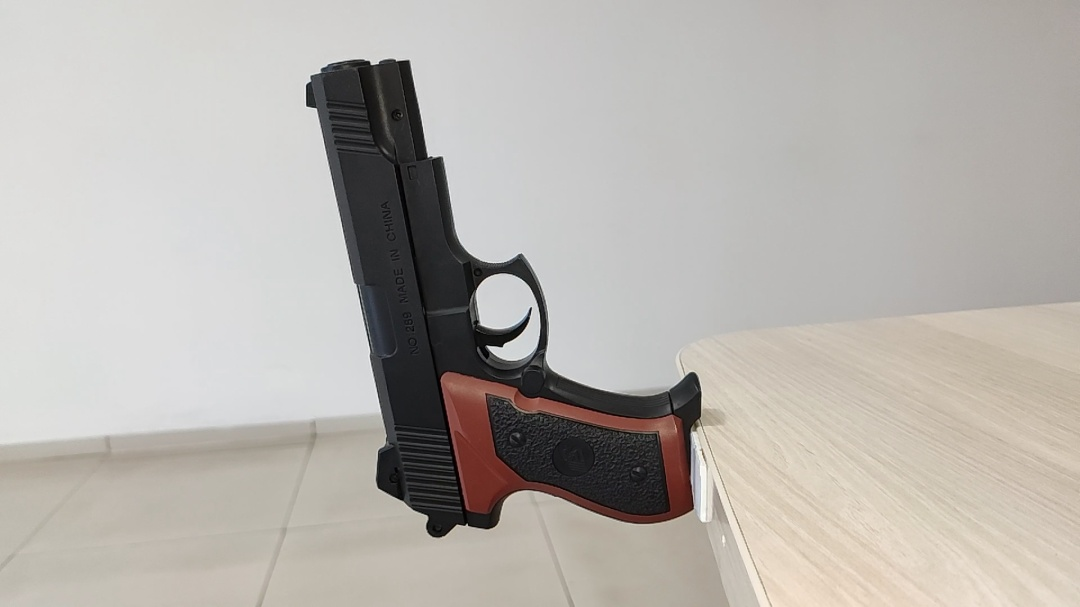gun: (304, 57, 704, 540)
